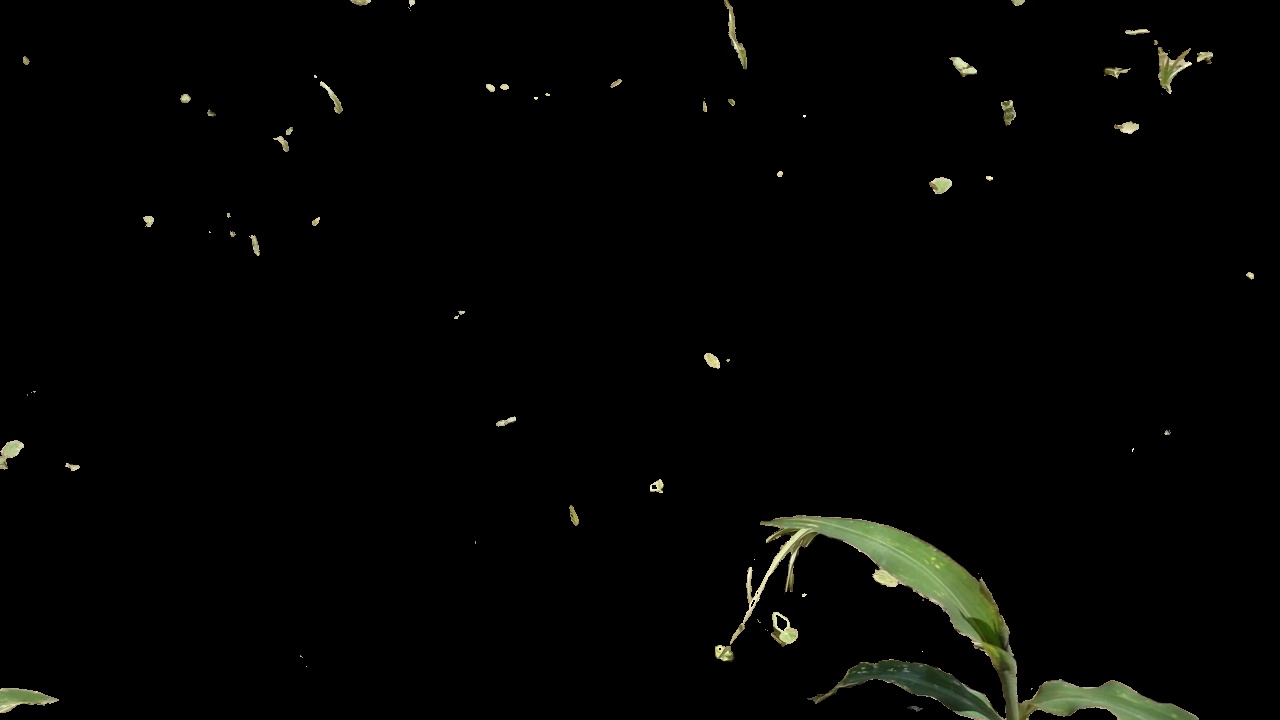crop: (745, 499, 1252, 720)
weed: (1112, 22, 1211, 131), (773, 607, 801, 649)
